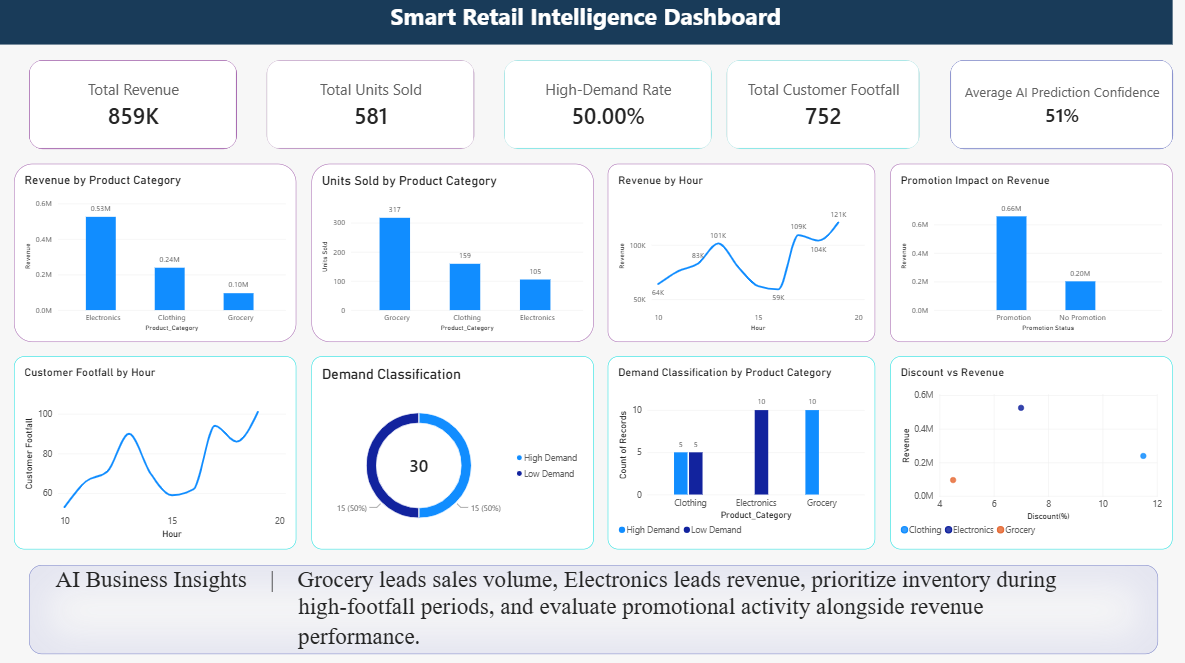

The page's visual inventory and layout, read from the dashboard file:
{"tool":"powerbi","page":{"name":"Page 1","canvas":[1920,1090],"ordinal":0},"visuals":[{"type":"cardVisual","fields":{"Data":["dashboard_data.Total Revenue"]},"box":[48,96,336,144],"z":0},{"type":"cardVisual","fields":{"Data":["dashboard_data.Total Units Sold"]},"box":[432,96,336,144],"z":1000},{"type":"cardVisual","fields":{"Data":["dashboard_data.Total Customer Footfall"]},"box":[1176,96,312,144],"z":2000},{"type":"cardVisual","fields":{"Data":["dashboard_data.High-Demand Rate"]},"box":[816,96,336,144],"z":3000},{"type":"clusteredColumnChart","title":"Revenue by Product Category","fields":{"Category":["dashboard_data.Product_Category"],"Y":["Sum(dashboard_data.Revenue)"]},"box":[24,264,456,288],"z":4000},{"type":"clusteredColumnChart","title":"Units Sold by Product Category","fields":{"Category":["dashboard_data.Product_Category"],"Y":["Sum(dashboard_data.Units_Sold)"]},"box":[504,264,456,288],"z":5000},{"type":"lineChart","title":"Revenue by Hour","fields":{"Category":["dashboard_data.Hour"],"Y":["Sum(dashboard_data.Revenue)"]},"box":[984,264,432,288],"z":6000},{"type":"lineChart","title":"Customer Footfall by Hour","fields":{"Category":["dashboard_data.Hour"],"Y":["Sum(dashboard_data.Customer_Footfall)"]},"box":[24,576,456,312],"z":7000},{"type":"donutChart","title":"Demand Classification","fields":{"Category":["dashboard_data.High_Demand"],"Y":["CountNonNull(dashboard_data.High_Demand)"]},"box":[504,576,456,312],"z":8000},{"type":"cardVisual","fields":{"Data":["dashboard_data.Average AI Prediction Confidence"]},"box":[1536,96,360,144],"z":9000},{"type":"clusteredColumnChart","title":"Demand Classification by Product Category","fields":{"Category":["dashboard_data.Product_Category"],"Y":["CountNonNull(dashboard_data.High_Demand)"],"Series":["dashboard_data.High_Demand"]},"box":[984,576,432,312],"z":10000},{"type":"clusteredColumnChart","title":"Promotion Impact on Revenue","fields":{"Y":["Sum(dashboard_data.Revenue)"],"Category":["dashboard_data.Promotion Status"]},"box":[1440,264,456,288],"z":11000},{"type":"scatterChart","title":"Discount vs Revenue","fields":{"X":["Avg(dashboard_data.Discount)"],"Y":["Sum(dashboard_data.Revenue)"],"Series":["dashboard_data.Product_Category"]},"box":[1440,576,456,312],"z":12000},{"type":"textbox","box":[0,0,1896,72],"z":13000},{"type":"textbox","box":[48,912,1824,144],"z":14000}]}

Visuals, with their boxes in screenshot pixels (x1, y1, x2, y2), scaled from the page's 1920x1090 canvas onto the 1185x663 screenshot:
cardVisual - dashboard_data.Total Revenue: l=30, t=58, r=237, b=146
cardVisual - dashboard_data.Total Units Sold: l=267, t=58, r=474, b=146
cardVisual - dashboard_data.Total Customer Footfall: l=726, t=58, r=918, b=146
cardVisual - dashboard_data.High-Demand Rate: l=504, t=58, r=711, b=146
"Revenue by Product Category" clusteredColumnChart: l=15, t=161, r=296, b=336
"Units Sold by Product Category" clusteredColumnChart: l=311, t=161, r=592, b=336
"Revenue by Hour" lineChart: l=607, t=161, r=874, b=336
"Customer Footfall by Hour" lineChart: l=15, t=350, r=296, b=540
"Demand Classification" donutChart: l=311, t=350, r=592, b=540
cardVisual - dashboard_data.Average AI Prediction Confidence: l=948, t=58, r=1170, b=146
"Demand Classification by Product Category" clusteredColumnChart: l=607, t=350, r=874, b=540
"Promotion Impact on Revenue" clusteredColumnChart: l=889, t=161, r=1170, b=336
"Discount vs Revenue" scatterChart: l=889, t=350, r=1170, b=540
textbox: l=0, t=0, r=1170, b=44
textbox: l=30, t=555, r=1155, b=642
